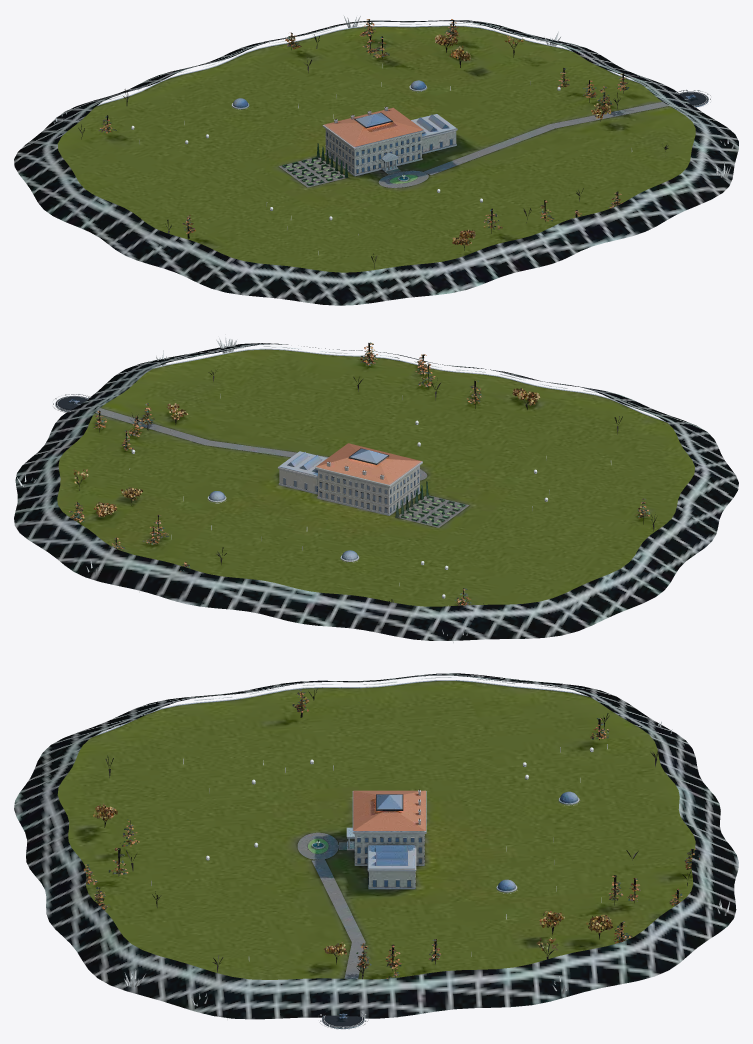
The model's file is league_club_low.glb.
3 views of the same model, one above another, from view 1: azimuth 30°, elevation 25°; view 2: azimuth 150°, elevation 25°; view 3: azimuth 270°, elevation 25° (orthographic). The views are drawn at different scales.
Parts seen in each view (by area): view 1: site_ground, props_ward, site_trees, site_garden, walls_ext, roof, props_magitech, props_railings, windows; view 2: site_ground, props_ward, site_trees, walls_ext, roof, site_garden, props_magitech, windows, props_railings; view 3: site_ground, props_ward, site_trees, roof, site_garden, walls_ext, props_magitech, props_railings.
Part boxes in pixels (<box>): site_ground: <box>57,26,695,272</box>; props_ward: <box>14,20,738,305</box>; site_trees: <box>78,19,668,268</box>; site_garden: <box>279,102,668,187</box>; walls_ext: <box>322,125,457,176</box>; roof: <box>324,107,456,160</box>; props_magitech: <box>53,15,734,254</box>; props_railings: <box>97,25,639,105</box>; windows: <box>326,132,452,173</box>; site_ground: <box>57,349,694,606</box>; props_ward: <box>14,343,738,640</box>; site_trees: <box>69,342,656,605</box>; walls_ext: <box>277,461,422,515</box>; roof: <box>278,443,421,484</box>; site_garden: <box>95,408,469,527</box>; props_magitech: <box>16,334,611,635</box>; windows: <box>283,469,418,512</box>; props_railings: <box>153,348,667,422</box>; site_ground: <box>57,681,695,979</box>; props_ward: <box>14,673,738,1019</box>; site_trees: <box>83,688,699,979</box>; roof: <box>346,790,425,869</box>; site_garden: <box>297,832,365,979</box>; walls_ext: <box>347,791,426,889</box>; props_magitech: <box>124,677,730,1006</box>; props_railings: <box>93,680,589,736</box>.
Bounding box in the file's own units: 367 × 63.2 × 315.
Materials: 13 (13 with a texture image).
